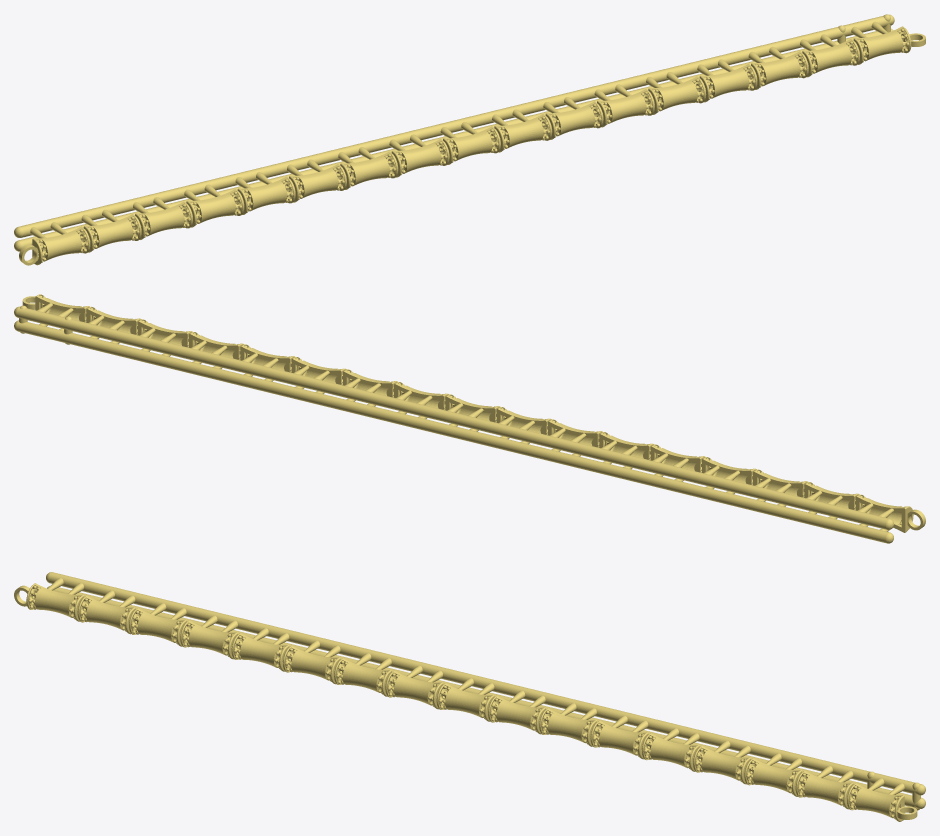
Rendered from test_identity.glb.
The picture shows the model from 3 angles, top to bottom: view 1: azimuth 30°, elevation 25°; view 2: azimuth 150°, elevation 25°; view 3: azimuth 330°, elevation 25°; orthographic projection.
Visible parts, largest first — view 1: Renderer Node; view 2: Renderer Node; view 3: Renderer Node.
Boxes of the visible parts, left/top/right/bottom form: Renderer Node: left=14, top=14, right=925, bottom=265; Renderer Node: left=14, top=294, right=925, bottom=543; Renderer Node: left=14, top=572, right=925, bottom=821.
Bounding box in the file's own units: 181 × 5.25 × 9.71.
